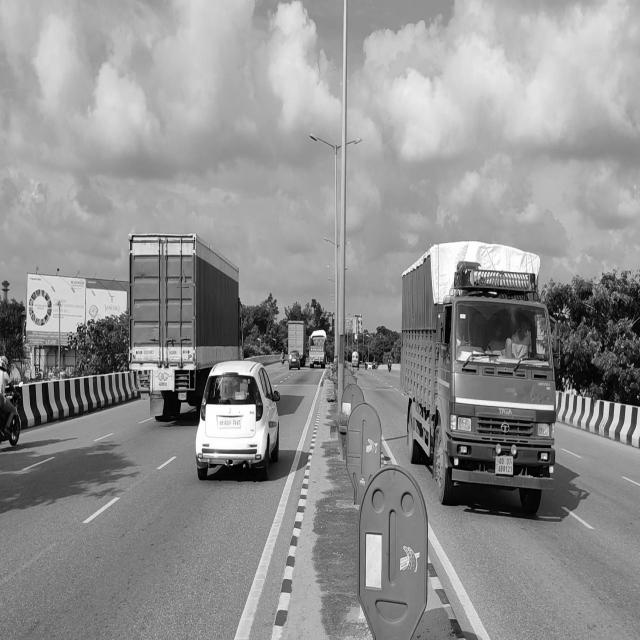car: (197, 363, 281, 476)
truck: (402, 236, 570, 507), (126, 221, 254, 417)
